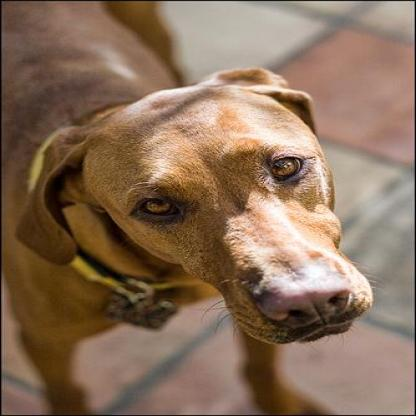vizsla: (0, 0, 374, 414)
